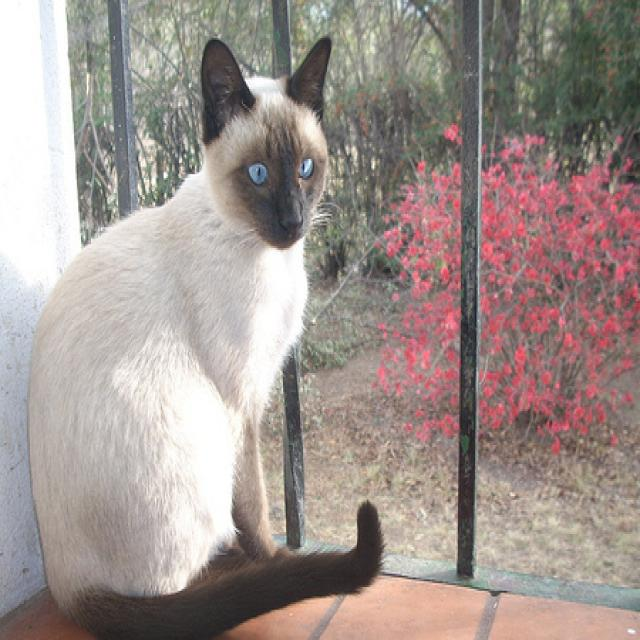Siamese: (24, 32, 387, 640)
